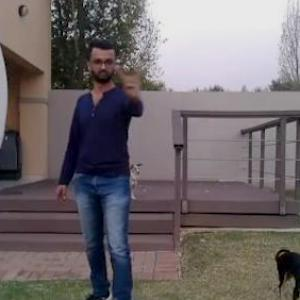takeoff-hand: (116, 55, 152, 101)
